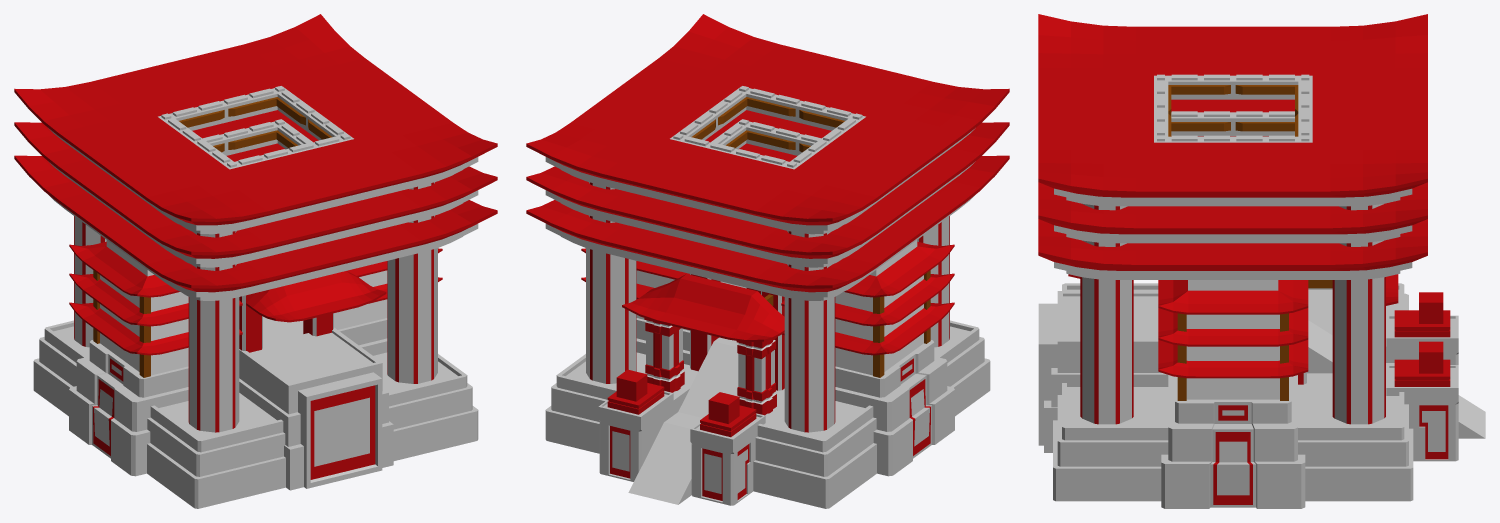
File: JapaneseTemple.fbx
The picture shows the model from 3 angles, left to right: view 1: azimuth 30°, elevation 25°; view 2: azimuth 150°, elevation 25°; view 3: azimuth 270°, elevation 25°; orthographic projection. The views are drawn at different scales.
Visible parts, largest first — view 1: main roof, base, building base, main pillars, art piece, building roof, Cube, back roof, inside pillars, Cube.001; view 2: main roof, base, building base, main pillars, building roof, entrance roof, entrance pillars, Cube, inside pillars, Cube.001; view 3: main roof, base, building base, main pillars, building roof, Cube, art piece, Cube.001.
Part boxes in pixels (left/top/right/bottom): main roof: left=14, top=14, right=497, bottom=300; base: left=33, top=320, right=478, bottom=508; building base: left=69, top=316, right=393, bottom=490; main pillars: left=74, top=182, right=437, bottom=432; art piece: left=298, top=372, right=382, bottom=488; building roof: left=69, top=241, right=442, bottom=355; Cube: left=100, top=240, right=387, bottom=375; back roof: left=246, top=271, right=386, bottom=322; inside pillars: left=239, top=293, right=333, bottom=352; Cube.001: left=93, top=270, right=150, bottom=377; main roof: left=526, top=14, right=1009, bottom=300; base: left=545, top=320, right=990, bottom=508; building base: left=628, top=318, right=954, bottom=504; main pillars: left=586, top=182, right=949, bottom=432; building roof: left=581, top=241, right=954, bottom=355; entrance roof: left=622, top=274, right=784, bottom=342; entrance pillars: left=644, top=318, right=776, bottom=415; Cube: left=636, top=240, right=923, bottom=375; inside pillars: left=690, top=274, right=784, bottom=390; Cube.001: left=873, top=270, right=930, bottom=377; main roof: left=1038, top=14, right=1427, bottom=279; base: left=1053, top=283, right=1458, bottom=501; building base: left=1044, top=291, right=1485, bottom=508; main pillars: left=1080, top=203, right=1385, bottom=424; building roof: left=1158, top=280, right=1308, bottom=378; Cube: left=1186, top=280, right=1279, bottom=399; art piece: left=1038, top=303, right=1057, bottom=445; Cube.001: left=1177, top=313, right=1288, bottom=400.
Bounding box in the file's own units: 440 × 403 × 496.
